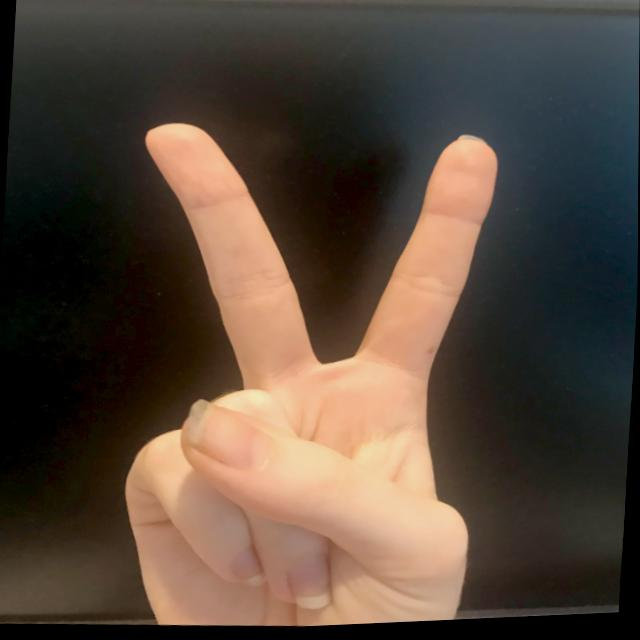V: (111, 107, 505, 635)
